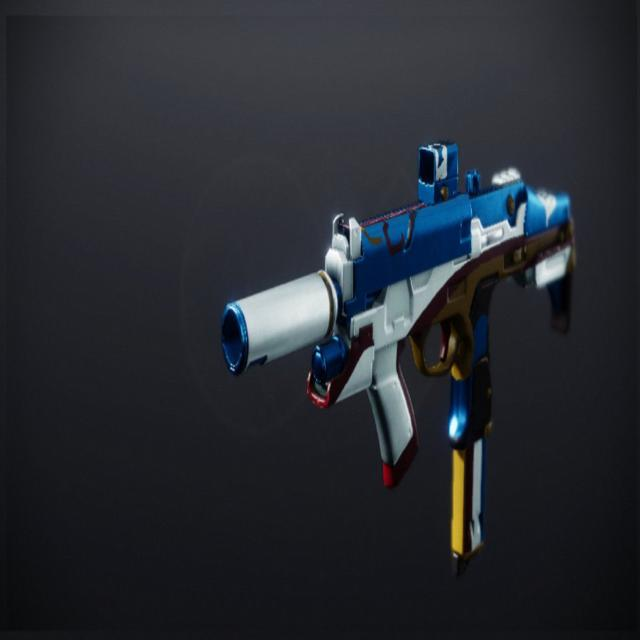Weapon: (221, 140, 575, 572)
